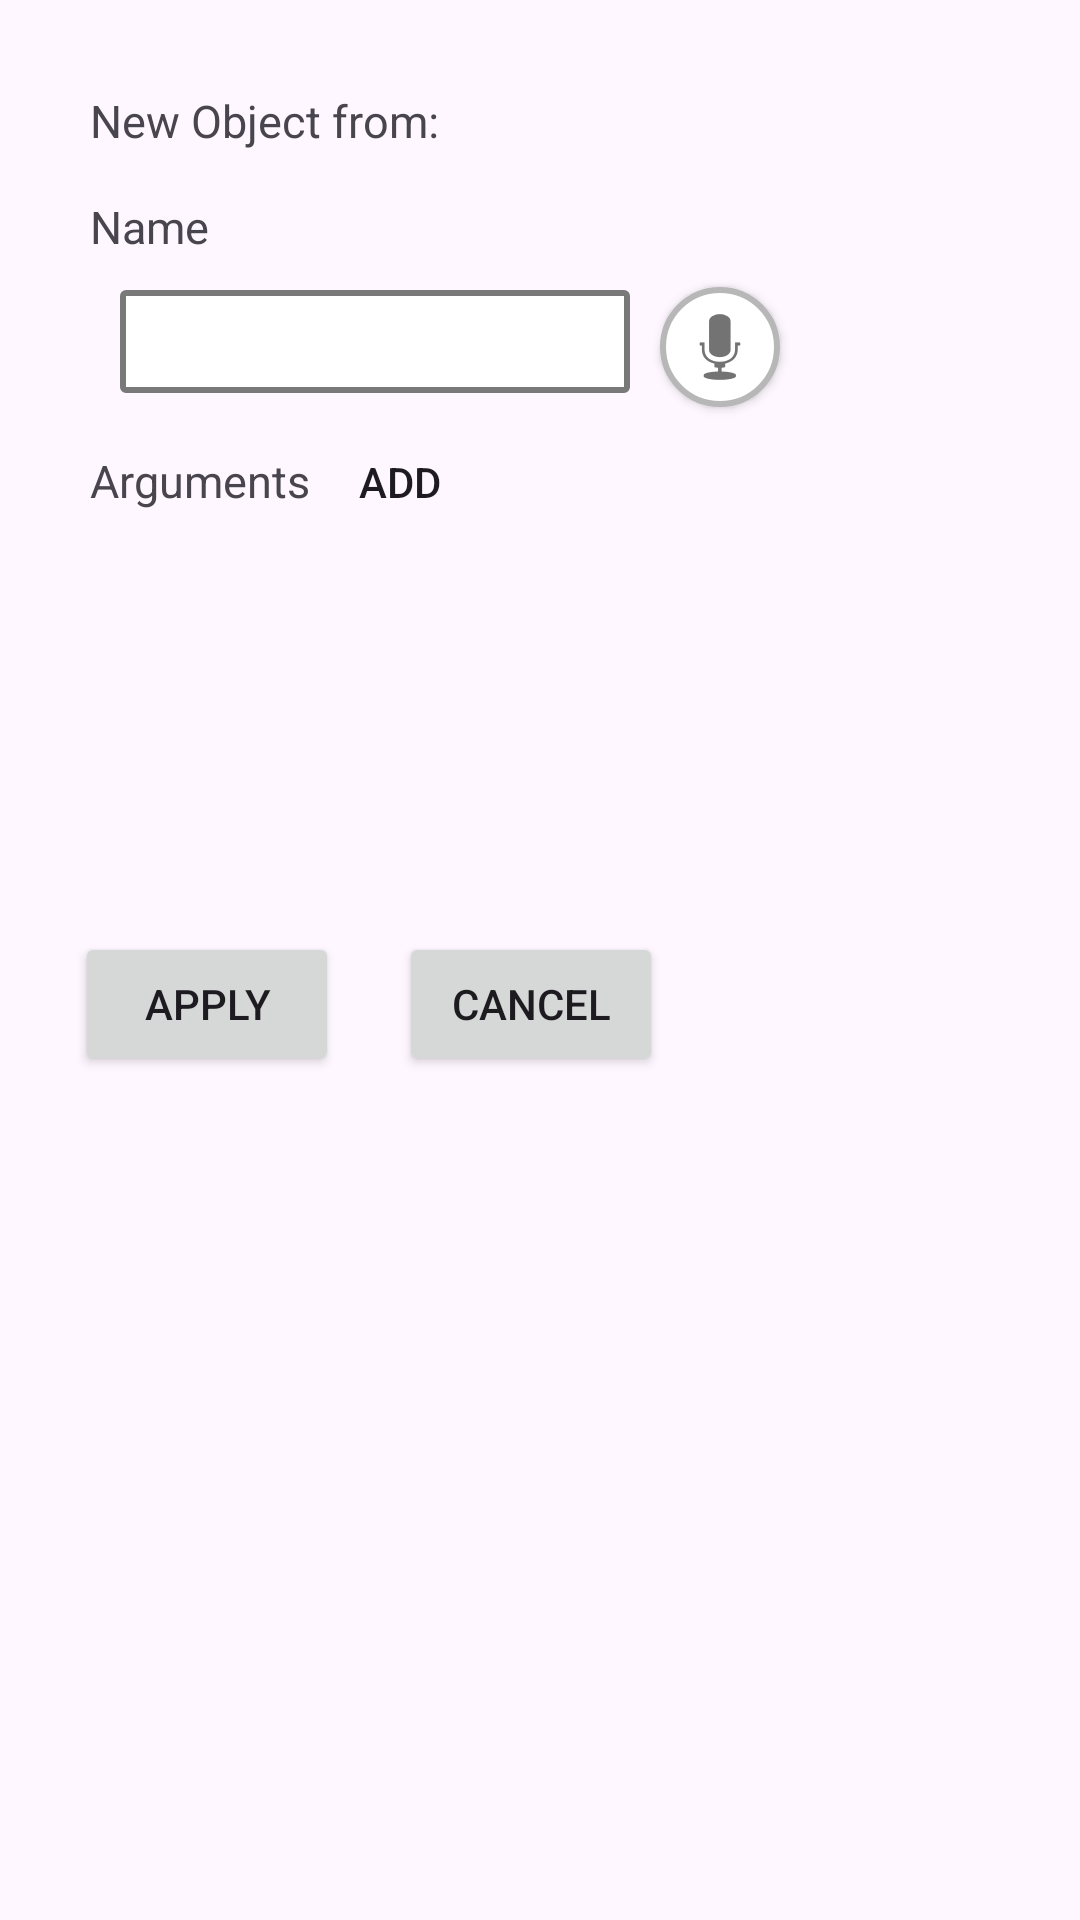

Icons on this 1080x1920 Android screen, each with its box as (left=x1, top=y1, right=x2, bottom=y2):
microphone: (left=660, top=287, right=780, bottom=407)
